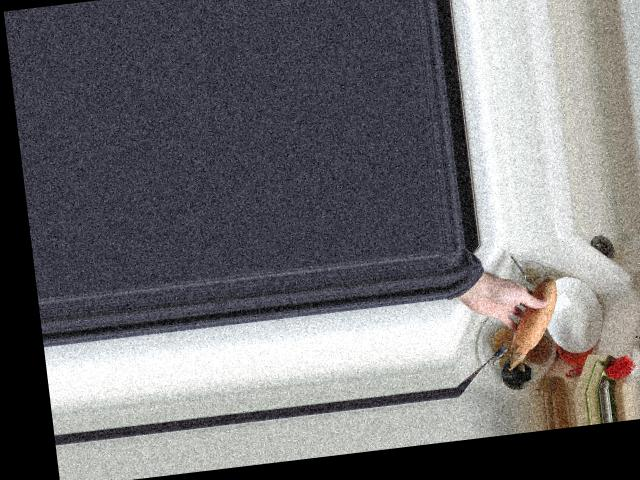sweet_potato: (495, 275, 568, 368)
